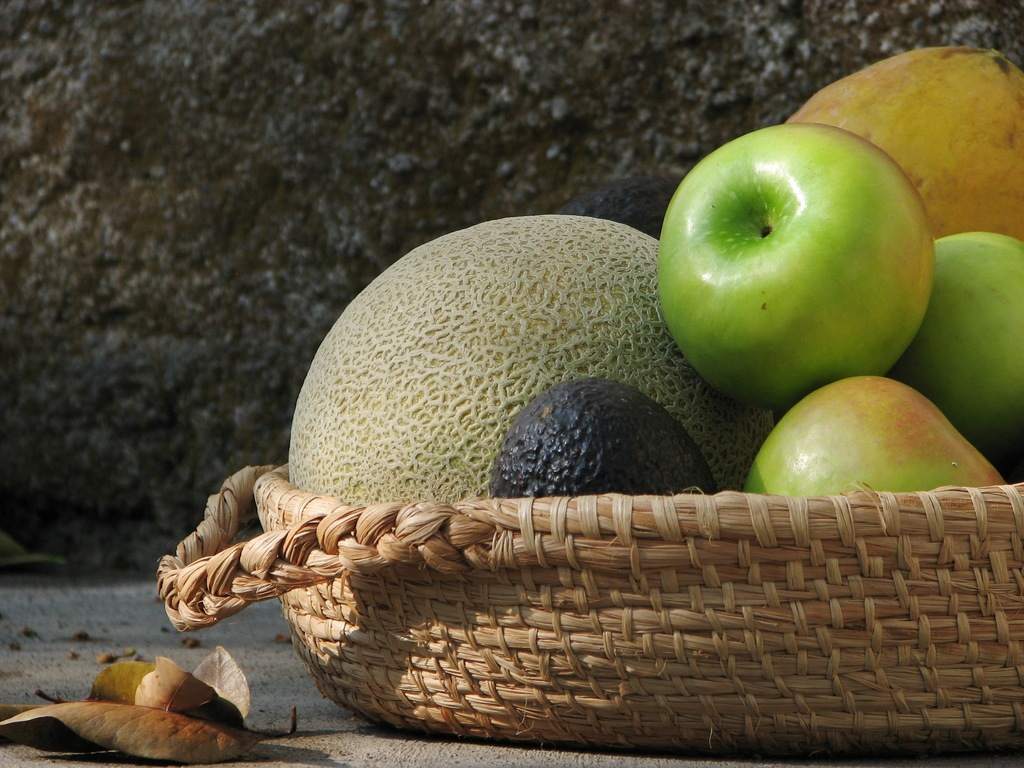Apple: (657, 117, 935, 413), (744, 373, 1008, 495), (888, 229, 1023, 456)
